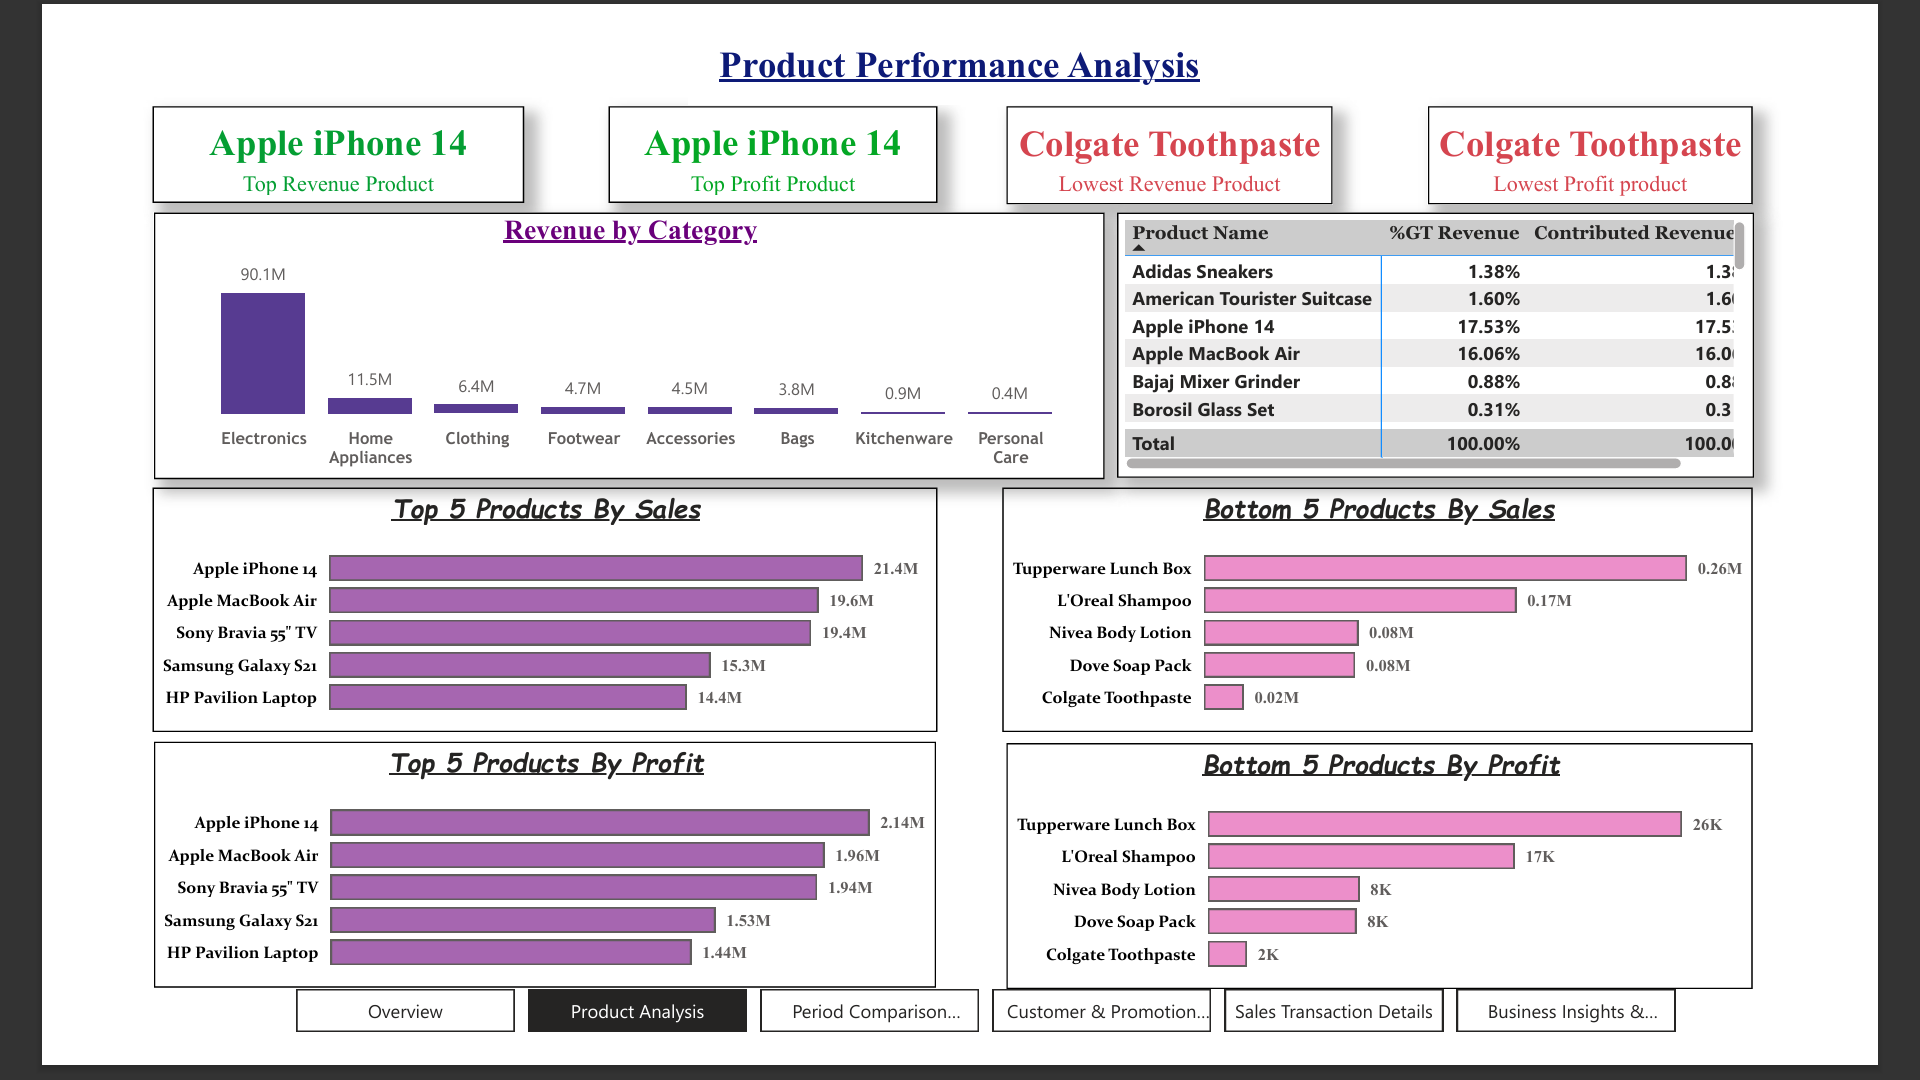

The page's visual inventory and layout, read from the dashboard file:
{"tool":"powerbi","page":{"name":"Product Analysis","canvas":[1280,720],"ordinal":1},"visuals":[{"type":"barChart","title":"Top 5 Products By Sales","fields":{"Category":["Dim Product.Product Name"],"Y":["Sum(Fact Table.Net Sales  )"]},"box":[56.2,326.2,567.5,176.2],"z":0},{"type":"barChart","title":"Bottom 5 Products By Sales","fields":{"Category":["Dim Product.Product Name"],"Y":["Sum(Fact Table.Net Sales  )"]},"box":[671.1,326.1,543.1,176.5],"z":1000},{"type":"barChart","title":"Top 5 Products By Profit","fields":{"Category":["Dim Product.Product Name"],"Y":["Sum(Fact Table.Profit)"]},"box":[56.7,510,566.7,178.3],"z":2000},{"type":"barChart","title":"Bottom 5 Products By Profit","fields":{"Category":["Dim Product.Product Name"],"Y":["Sum(Fact Table.Profit)"]},"box":[673.8,510.8,540.4,177.9],"z":3000},{"type":"card","fields":{"Values":["Measure Table.Best Selling Product"]},"box":[56.2,50,268.8,70],"z":4000},{"type":"card","fields":{"Values":["Measure Table.Top Profit Product"]},"box":[386.2,50,237.5,70],"z":5000},{"type":"card","fields":{"Values":["Measure Table.Lowest Revenue Product"]},"box":[673.8,50,236.2,71.2],"z":6000},{"type":"card","fields":{"Values":["Measure Table.Lowest Profit product"]},"box":[978.8,50,235,71.2],"z":7000},{"type":"clusteredColumnChart","title":"Revenue by Category","fields":{"Category":["Dim Product.Product Line"],"Y":["Measure Table.Revenue"]},"box":[56.7,126.7,688.3,193.3],"z":8000},{"type":"pageNavigator","box":[160.4,688.7,997.3,31],"z":9000},{"type":"pivotTable","fields":{"Values":["Measure Table.Revenue","Measure Table.Product Revenue %"],"Rows":["Dim Product.Product Name"]},"box":[753.9,126.8,460.9,192.7],"z":10000},{"type":"textbox","box":[443.8,0,392.5,48.8],"z":11000}]}

Visuals, with their boxes in screenshot pixels (x1, y1, x2, y2), scaled from the page's 1280x720 canvas onto the 1920x1080 screenshot:
"Top 5 Products By Sales" barChart: bbox(84, 489, 936, 754)
"Bottom 5 Products By Sales" barChart: bbox(1007, 489, 1821, 754)
"Top 5 Products By Profit" barChart: bbox(85, 765, 935, 1032)
"Bottom 5 Products By Profit" barChart: bbox(1011, 766, 1821, 1033)
card - Measure Table.Best Selling Product: bbox(84, 75, 488, 180)
card - Measure Table.Top Profit Product: bbox(579, 75, 936, 180)
card - Measure Table.Lowest Revenue Product: bbox(1011, 75, 1365, 182)
card - Measure Table.Lowest Profit product: bbox(1468, 75, 1821, 182)
"Revenue by Category" clusteredColumnChart: bbox(85, 190, 1118, 480)
pageNavigator: bbox(241, 1033, 1737, 1079)
pivotTable - Measure Table.Revenue x Measure Table.Product Revenue %: bbox(1131, 190, 1822, 479)
textbox: bbox(666, 0, 1254, 73)
